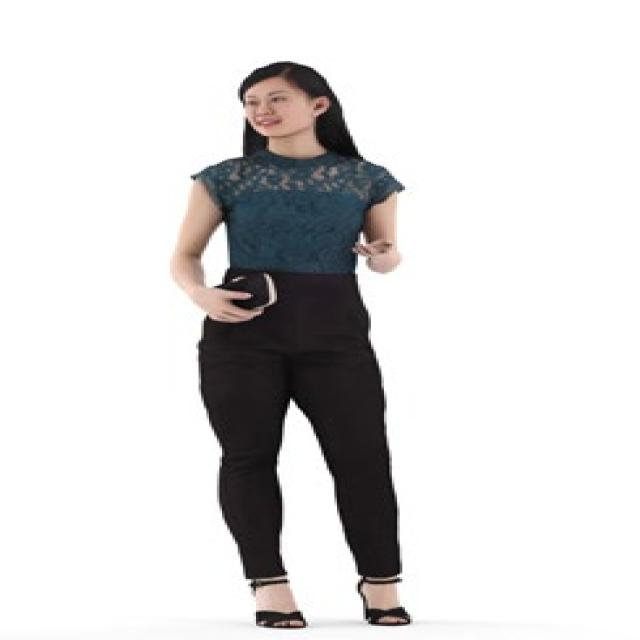standing: (165, 59, 424, 628)
